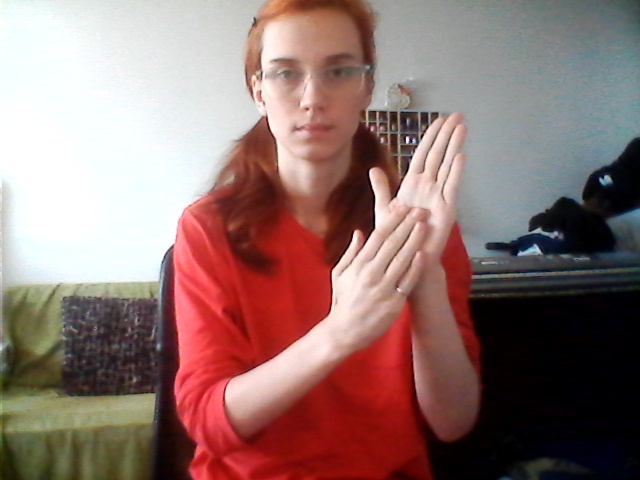m: (319, 109, 478, 356)
